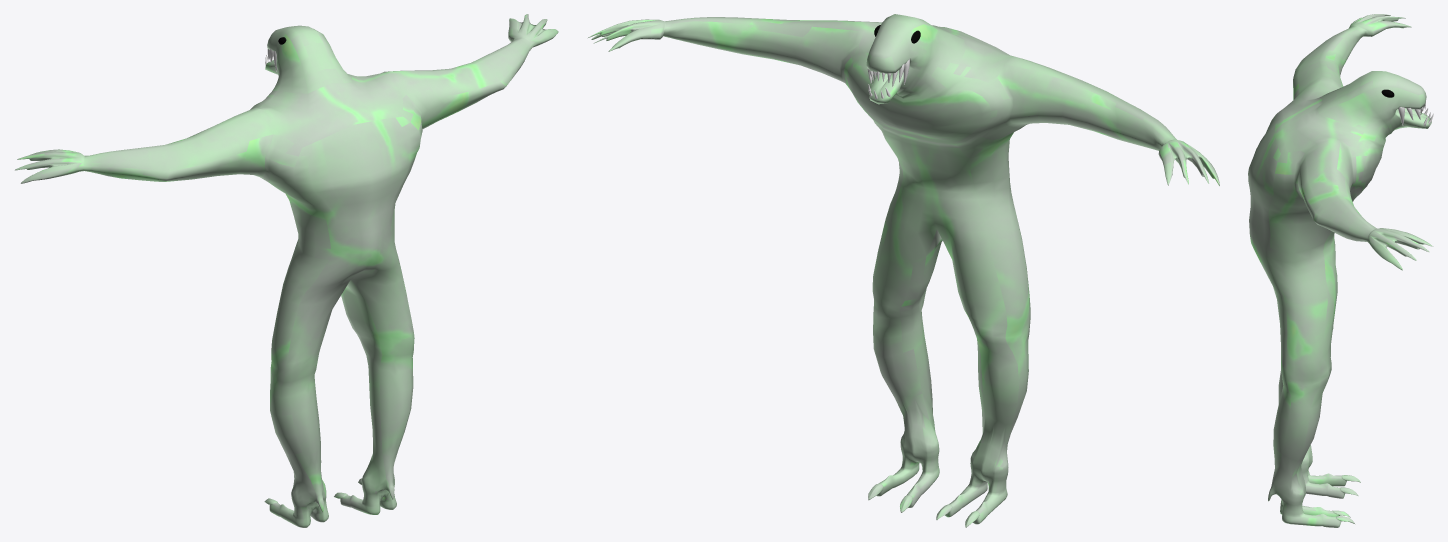
The model's file is Berserkeraranar.0001.obj.
3 views of the same model, side by side, from view 1: azimuth 30°, elevation 25°; view 2: azimuth 150°, elevation 25°; view 3: azimuth 270°, elevation 25° (orthographic). The views are drawn at different scales.
Visible parts, largest first — view 1: polySurface27; view 2: polySurface27; view 3: polySurface27.
Boxes of the visible parts, left/top/right/bottom form: polySurface27: left=15, top=14, right=558, bottom=527; polySurface27: left=588, top=14, right=1219, bottom=527; polySurface27: left=1248, top=14, right=1433, bottom=527.
Bounding box in the file's own units: 30.12 × 24.1 × 9.26.
1 material, 1 textured.
